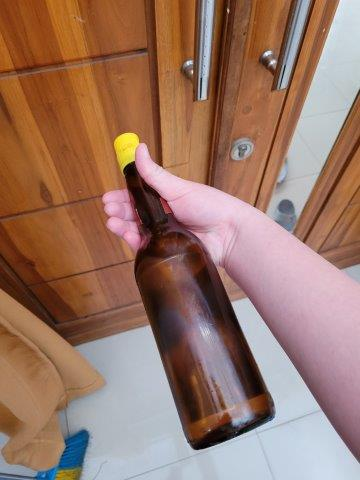botolkaca: (114, 133, 275, 452)
